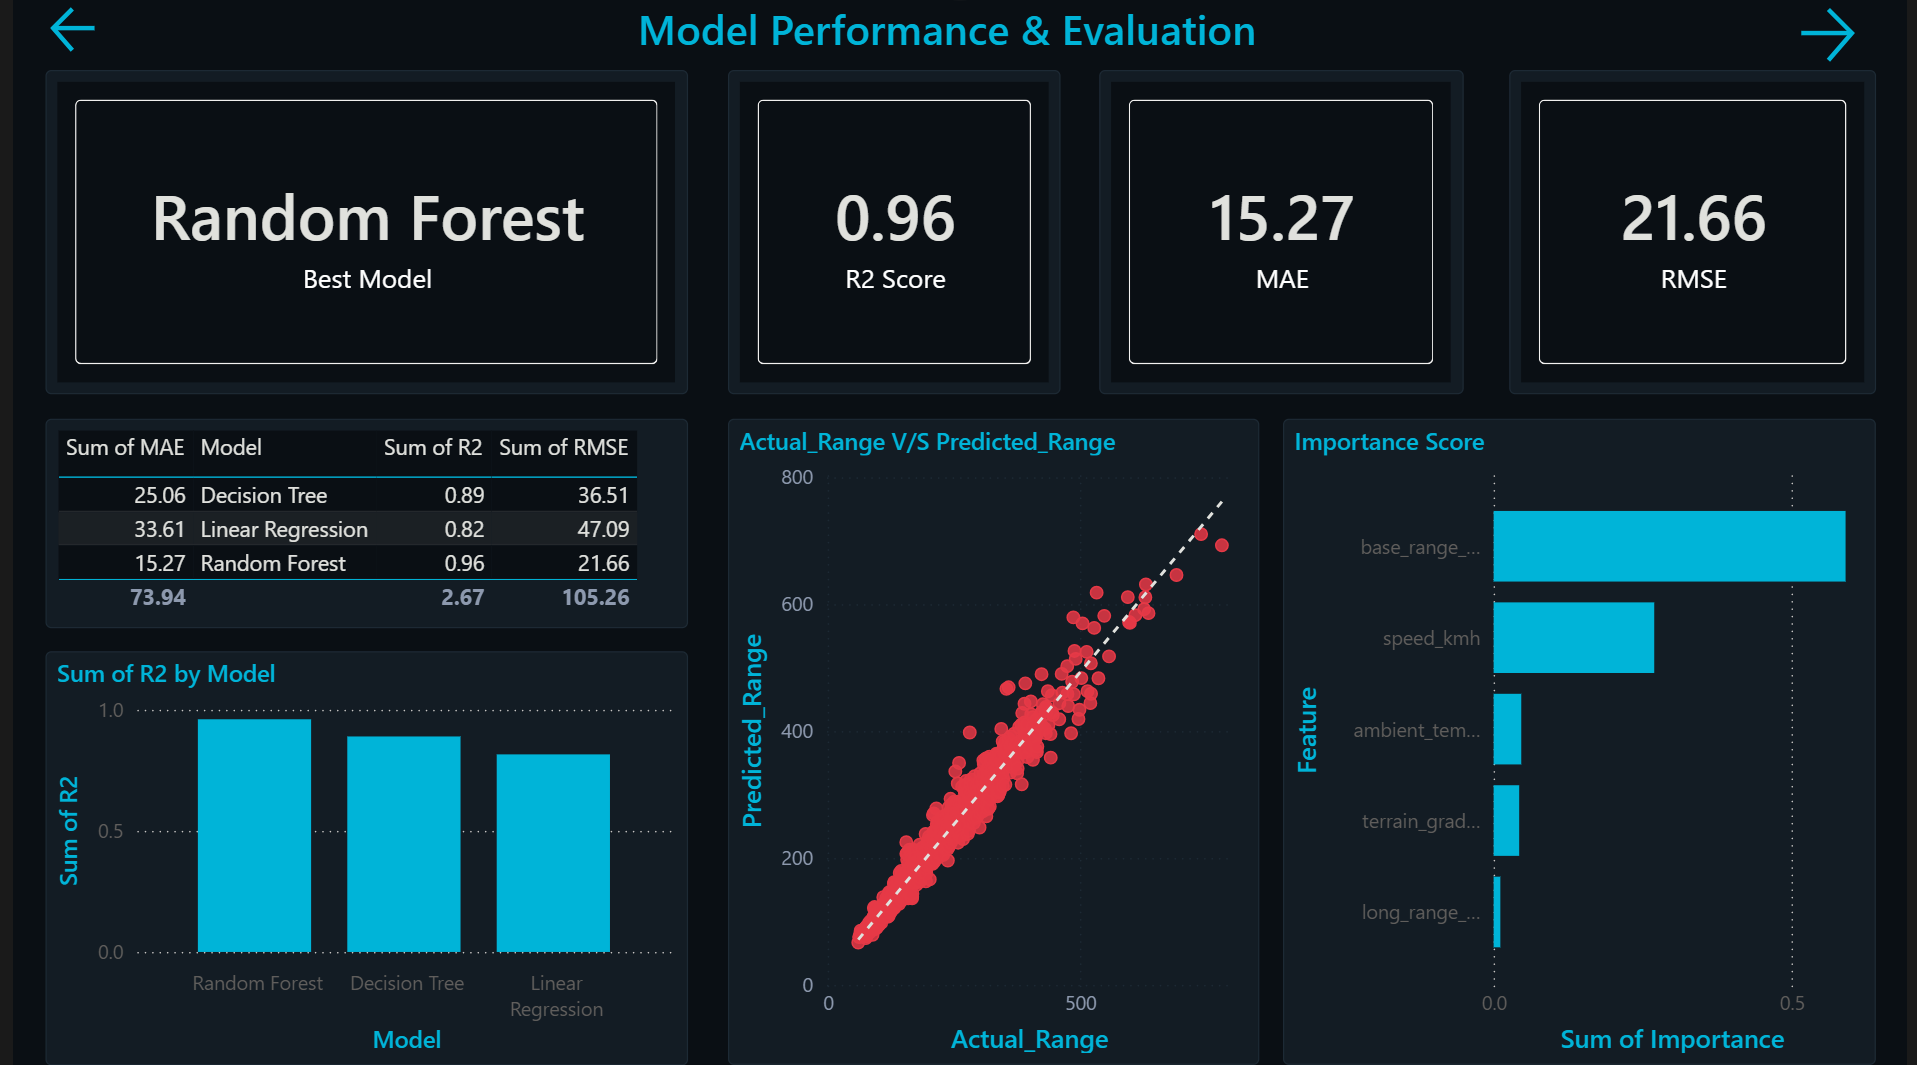

Layout of this report page (visuals, bound fields, positions):
{"tool":"powerbi","page":{"name":"Model Performance & Evaluation","canvas":[1280,720],"ordinal":3},"visuals":[{"type":"cardVisual","title":"Best Model","fields":{"Data":["EV_Range_Predictions.Best Model"]},"box":[21.6,47.6,434.3,219.3],"z":0},{"type":"cardVisual","fields":{"Data":["EV_Range_Predictions.R2 Score"]},"box":[483.3,47.6,225.1,219.3],"z":1000},{"type":"cardVisual","fields":{"Data":["EV_Range_Predictions.MAE"]},"box":[734.4,47.6,246.7,219.3],"z":2000},{"type":"cardVisual","fields":{"Data":["EV_Range_Predictions.RMSE"]},"box":[1011.4,47.6,248.2,219.3],"z":3000},{"type":"clusteredColumnChart","fields":{"Category":["Table.Model"],"Y":["Sum(Table.R2)"]},"box":[21.6,440,434.3,279.9],"z":4000},{"type":"tableEx","fields":{"Values":["Sum(Table.MAE)","Table.Model","Sum(Table.R2)","Sum(Table.RMSE)"]},"box":[21.6,282.8,434.3,141.4],"z":5000},{"type":"scatterChart","title":"Actual_Range V/S Predicted_Range","fields":{"X":["EV_Range_Predictions.Actual_Range"],"Y":["EV_Range_Predictions.Predicted_Range"]},"box":[483.3,282.8,359.2,437.2],"z":6000},{"type":"clusteredBarChart","title":"Importance Score","fields":{"Category":["Feature_Importance.Feature"],"Y":["Sum(Feature_Importance.Importance)"]},"box":[858.4,282.8,401.1,437.2],"z":7000},{"type":"textbox","title":"Model Performance & Evaluation","box":[417.1,0,611.4,47.1],"z":8000},{"type":"actionButton","box":[21.4,0,54.3,40],"z":9000},{"type":"actionButton","box":[1202.9,0,57.1,47.1],"z":10000}]}

Visuals, with their boxes in screenshot pixels (x1, y1, x2, y2), scaled from the page's 1280x720 canvas onto the 1917x1065 screenshot:
"Best Model" cardVisual: [32,70,683,395]
cardVisual - EV_Range_Predictions.R2 Score: [724,70,1061,395]
cardVisual - EV_Range_Predictions.MAE: [1100,70,1469,395]
cardVisual - EV_Range_Predictions.RMSE: [1515,70,1886,395]
clusteredColumnChart - Table.Model x Sum(Table.R2): [32,651,683,1064]
tableEx - Sum(Table.MAE) x Table.Model: [32,418,683,627]
"Actual_Range V/S Predicted_Range" scatterChart: [724,418,1262,1064]
"Importance Score" clusteredBarChart: [1286,418,1886,1064]
"Model Performance & Evaluation" textbox: [625,0,1540,70]
actionButton: [32,0,113,59]
actionButton: [1802,0,1887,70]
